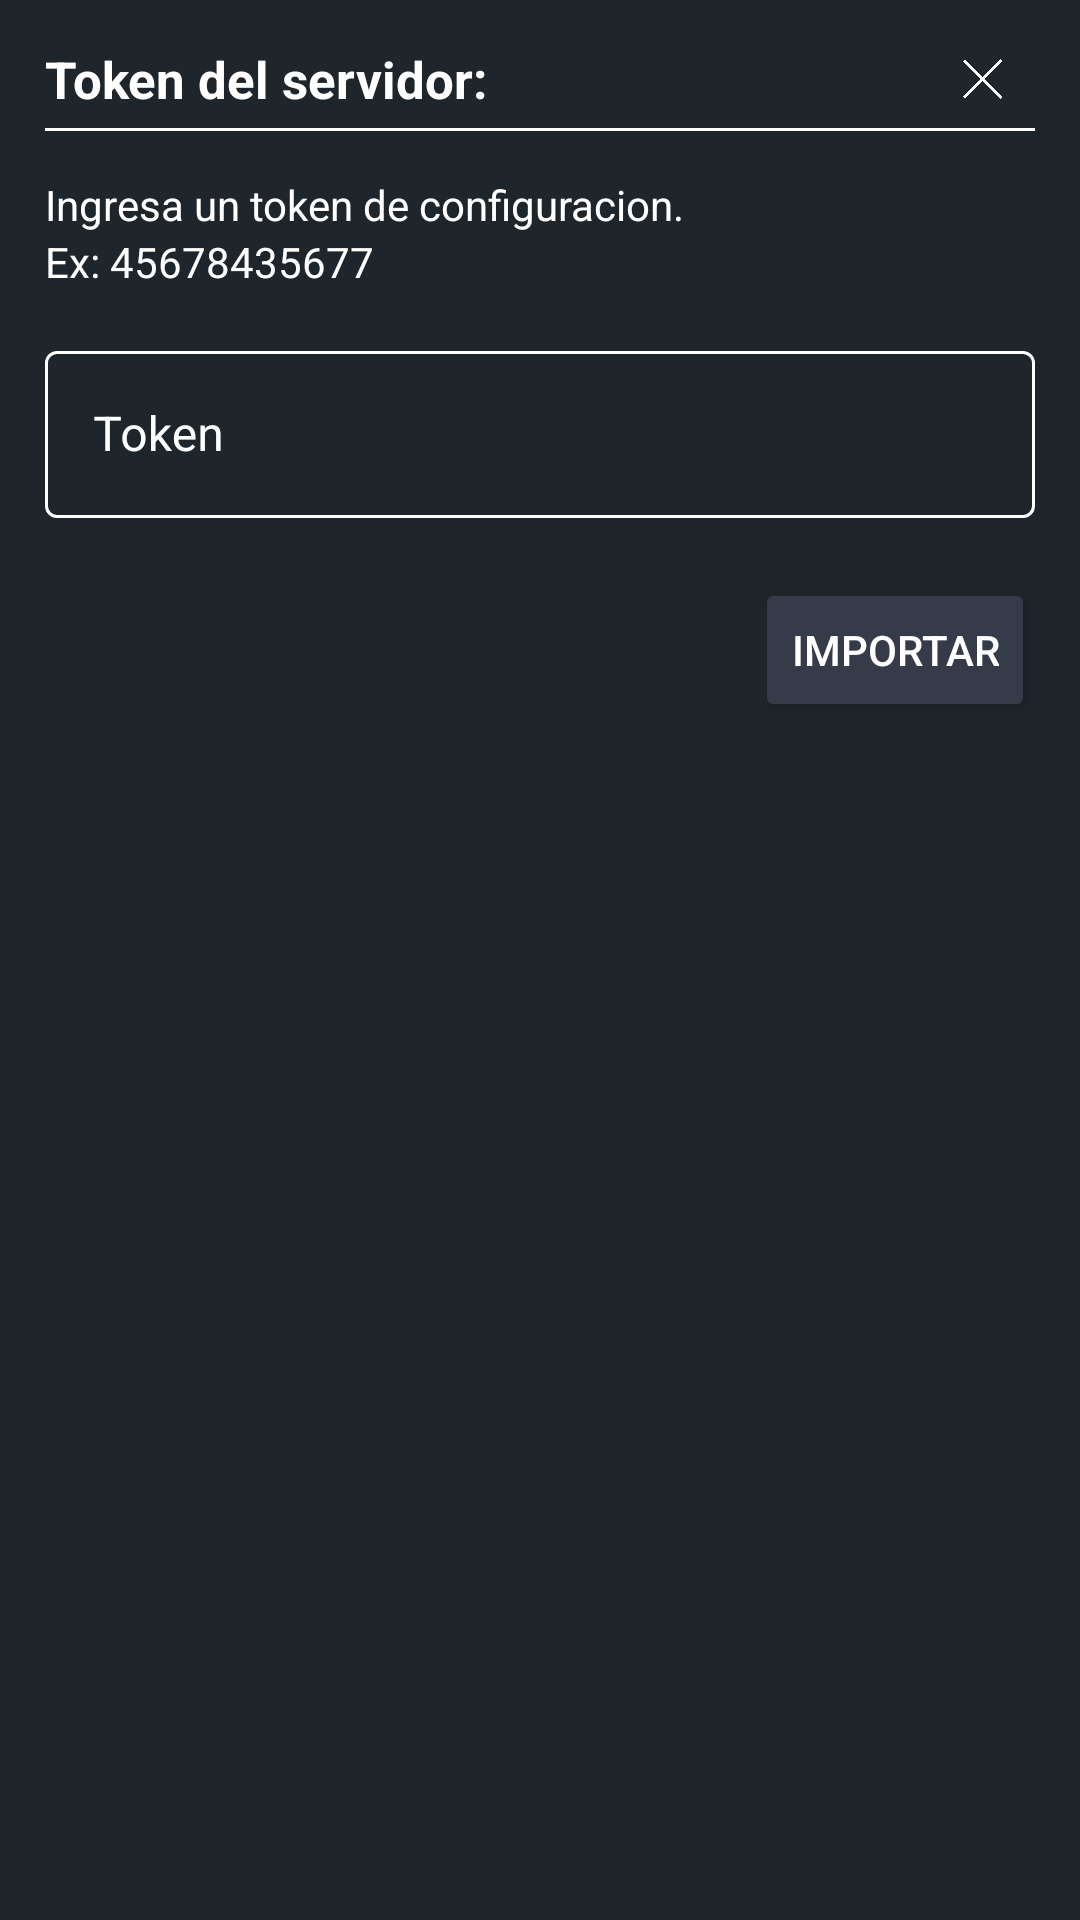

Icon click points for this 1080×1920 phone screenshot, format [x,y]:
salir: [982,79]
